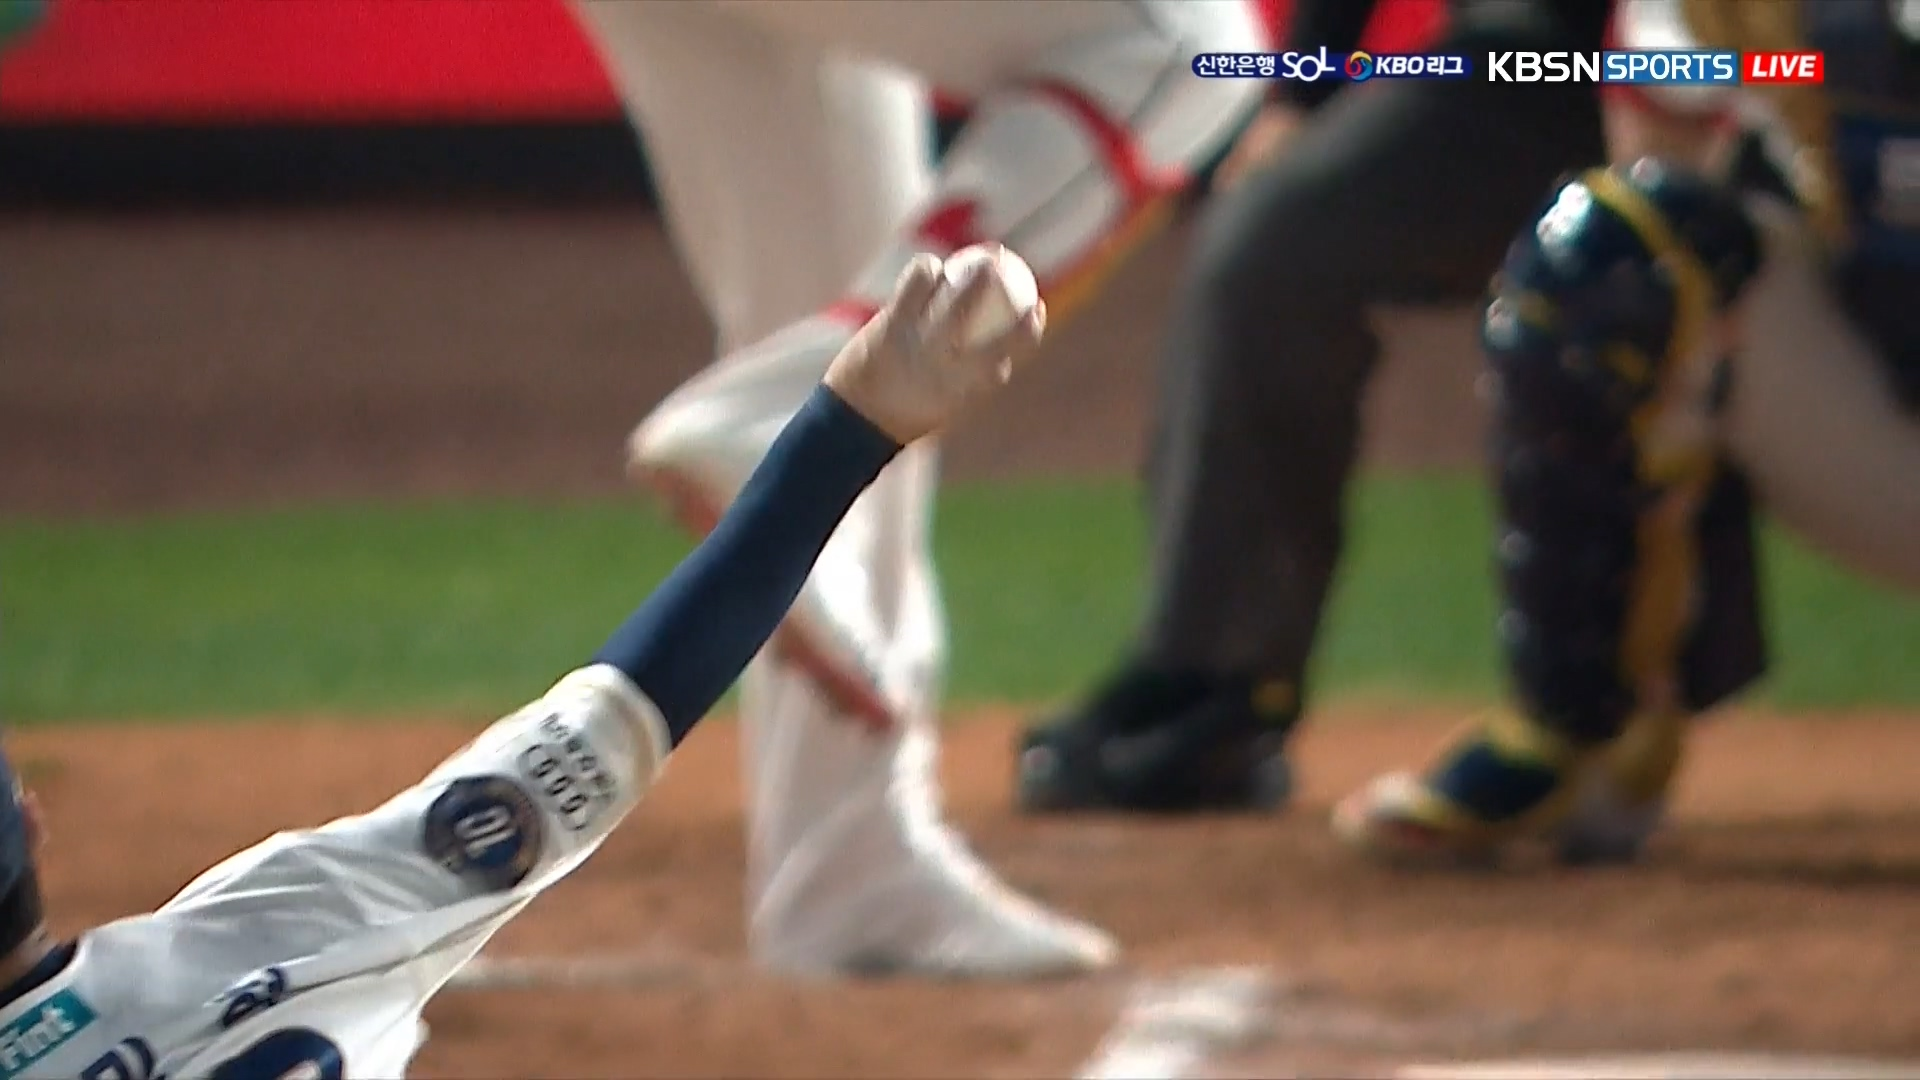zoomin_hand: (588, 210, 1054, 753)
